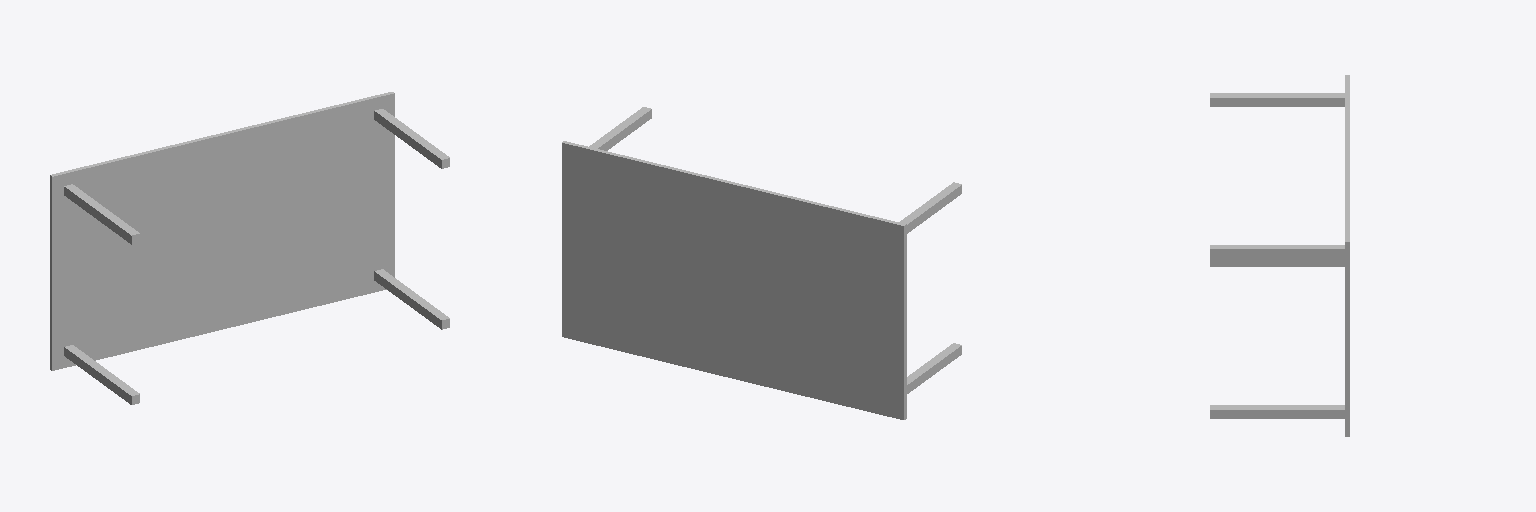
File: random_table15.obj
3 views of the same model, side by side, from view 1: azimuth 30°, elevation 25°; view 2: azimuth 150°, elevation 25°; view 3: azimuth 270°, elevation 25° (orthographic).
Parts seen in each view (by area): view 1: Table_Cube.270, TableLeg1_Cube.272, TableLeg2_Cube.273, TableLeg0_Cube.271, TableLeg3_Cube.274; view 2: Table_Cube.270, TableLeg1_Cube.272, TableLeg3_Cube.274, TableLeg0_Cube.271; view 3: TableLeg1_Cube.272, TableLeg2_Cube.273, Table_Cube.270, TableLeg0_Cube.271, TableLeg3_Cube.274.
Part boxes in pixels (x1,y1,x2,y2): Table_Cube.270: (50, 92, 394, 370); TableLeg1_Cube.272: (64, 184, 139, 244); TableLeg2_Cube.273: (374, 269, 449, 329); TableLeg0_Cube.271: (374, 109, 449, 168); TableLeg3_Cube.274: (64, 345, 139, 404); Table_Cube.270: (562, 141, 906, 419); TableLeg1_Cube.272: (899, 182, 961, 233); TableLeg3_Cube.274: (907, 343, 961, 393); TableLeg0_Cube.271: (589, 107, 651, 150); TableLeg1_Cube.272: (1210, 93, 1344, 106); TableLeg2_Cube.273: (1210, 405, 1344, 418); Table_Cube.270: (1345, 75, 1349, 436); TableLeg0_Cube.271: (1210, 245, 1344, 257); TableLeg3_Cube.274: (1210, 258, 1344, 266).
Bounding box in the file's own units: 10.94 × 5.94 × 3.88.